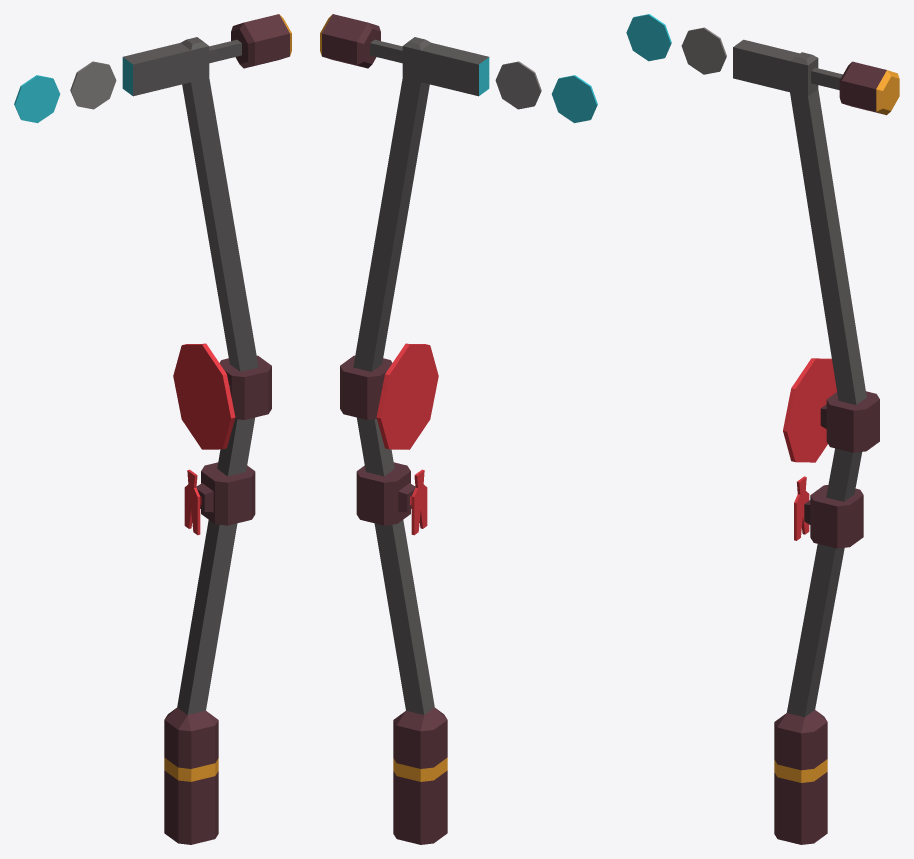
Rendered from scifi-traffic-lights-pedestrian-stop.fbx.
3 views of the same model, side by side, from view 1: azimuth 30°, elevation 25°; view 2: azimuth 150°, elevation 25°; view 3: azimuth 330°, elevation 25° (orthographic).
Parts seen in each view (by area): view 1: scifi-traffic-lights-pedestrian-stop; view 2: scifi-traffic-lights-pedestrian-stop; view 3: scifi-traffic-lights-pedestrian-stop.
Part boxes in pixels (x1,y1,x2,y2): scifi-traffic-lights-pedestrian-stop: [14, 14, 291, 844]; scifi-traffic-lights-pedestrian-stop: [320, 14, 597, 844]; scifi-traffic-lights-pedestrian-stop: [626, 14, 899, 844].
Bounding box in the file's own units: 3.12 × 8.84 × 1.16.
